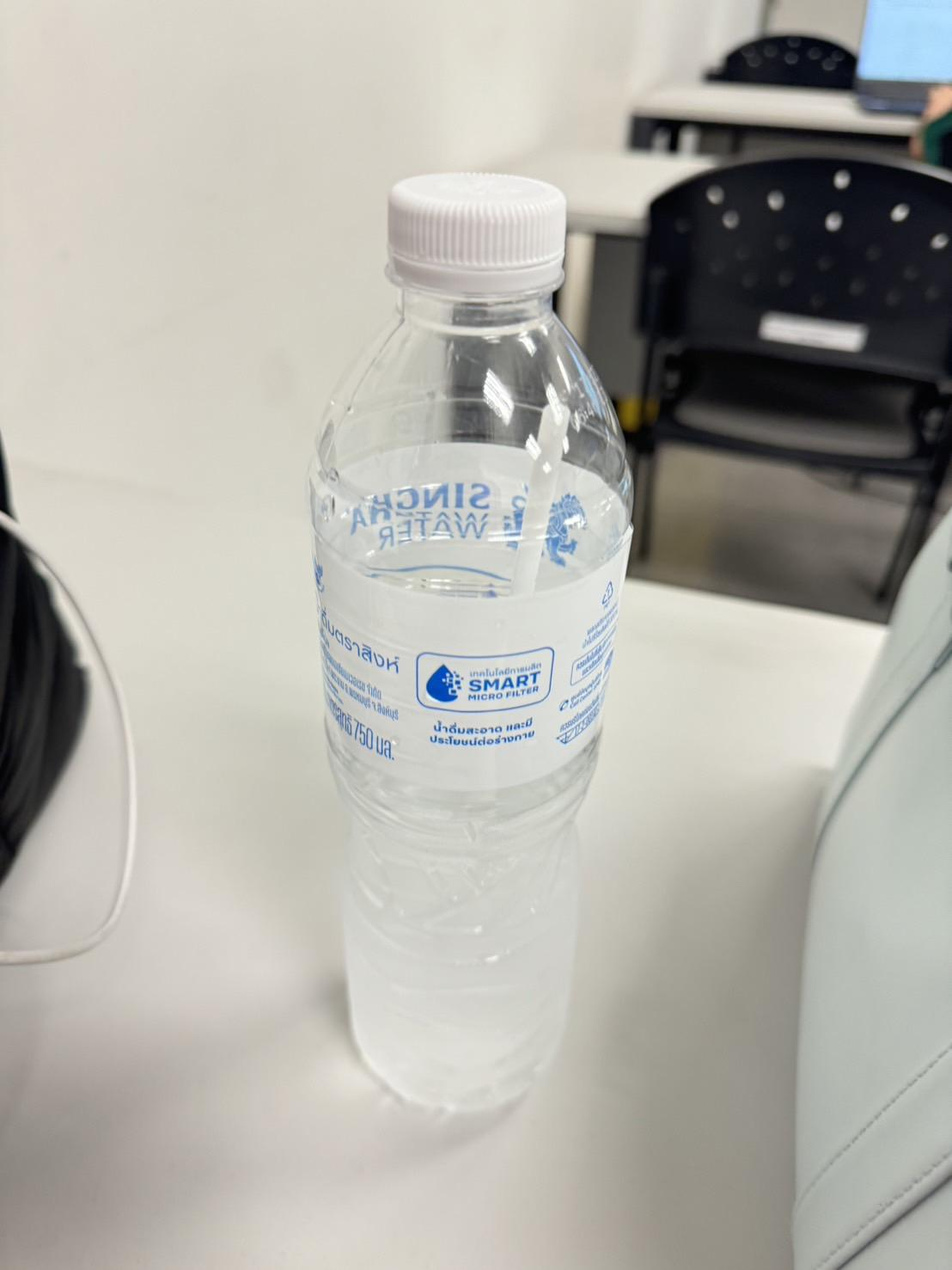Bottle: (308, 175, 632, 1109)
